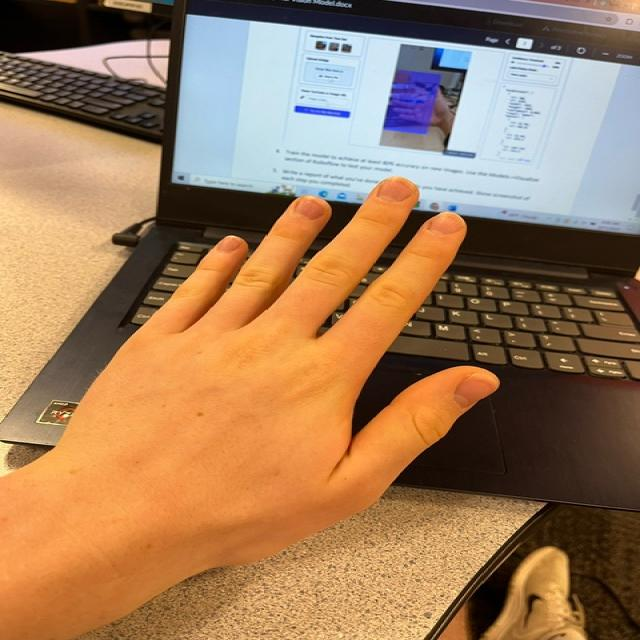keyboard-with-hands: (0, 222, 640, 510)
